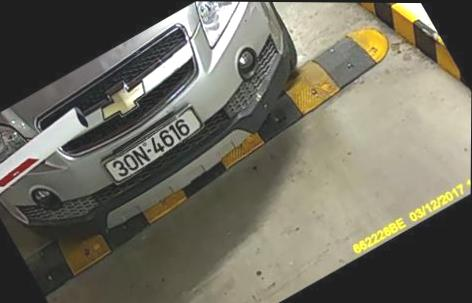License_Plate: (101, 106, 207, 186)
